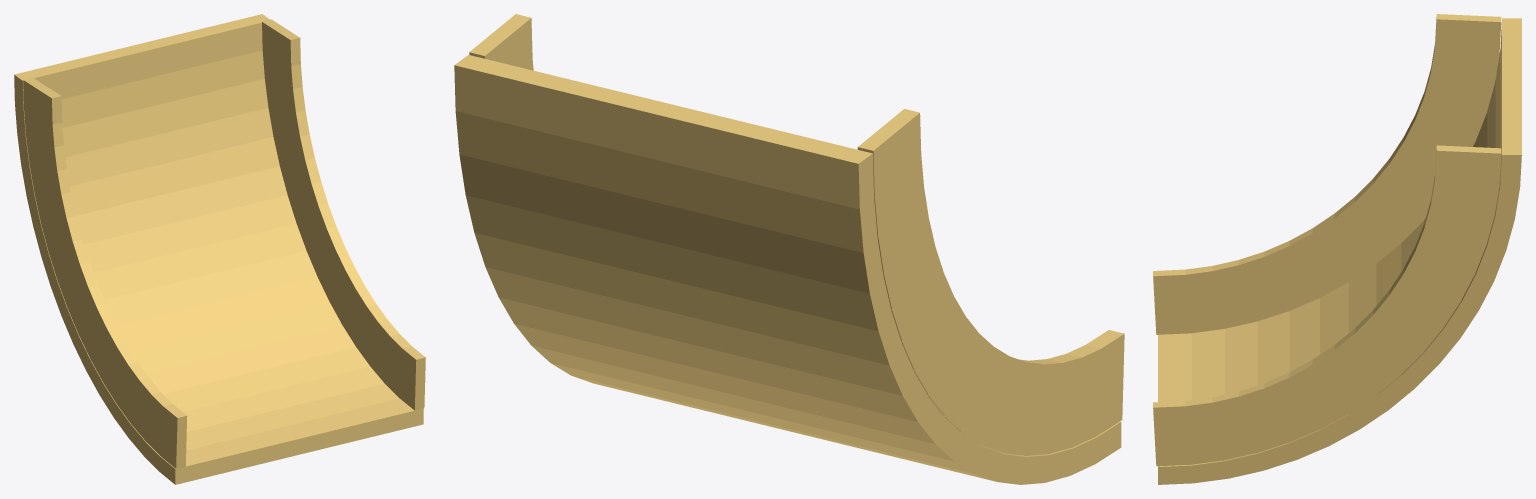
Rendered from BridgeQuotaLoot1.fbx.
The picture shows the model from 3 angles, left to right: view 1: azimuth 30°, elevation 25°; view 2: azimuth 150°, elevation 25°; view 3: azimuth 270°, elevation 25°; orthographic projection. The views are drawn at different scales.
Visible parts, largest first — view 1: BridgeQuotaLoot1__Walkable_Deck, BridgeQuotaLoot1__Bridge_Rail_L_01, BridgeQuotaLoot1__Bridge_Rail_R_01, BridgeQuotaLoot1__Bridge_Rail_L_16, BridgeQuotaLoot1__Bridge_Rail_R_16, BridgeQuotaLoot1__Bridge_Rail_L_11, BridgeQuotaLoot1__Bridge_Rail_R_10, BridgeQuotaLoot1__Bridge_Rail_R_12, BridgeQuotaLoot1__Bridge_Rail_R_07, BridgeQuotaLoot1__Bridge_Rail_L_14, BridgeQuotaLoot1__Bridge_Rail_L_05, BridgeQuotaLoot1__Bridge_Rail_R_15 (+21 smaller); view 2: BridgeQuotaLoot1__Walkable_Deck, BridgeQuotaLoot1__Bridge_Rail_L_16, BridgeQuotaLoot1__Bridge_Rail_L_03, BridgeQuotaLoot1__Bridge_Rail_L_10, BridgeQuotaLoot1__Bridge_Rail_L_13, BridgeQuotaLoot1__Bridge_Rail_L_01, BridgeQuotaLoot1__Bridge_Rail_L_02, BridgeQuotaLoot1__Bridge_Rail_L_06, BridgeQuotaLoot1__Bridge_Rail_L_15, BridgeQuotaLoot1__Bridge_Rail_L_11, BridgeQuotaLoot1__Bridge_Rail_L_07, BridgeQuotaLoot1__Bridge_Rail_L_14 (+6 smaller); view 3: BridgeQuotaLoot1__Walkable_Deck, BridgeQuotaLoot1__Bridge_Rail_L_16, BridgeQuotaLoot1__Bridge_Rail_R_01, BridgeQuotaLoot1__Bridge_Rail_L_01, BridgeQuotaLoot1__Bridge_Rail_L_03, BridgeQuotaLoot1__Bridge_Rail_L_02, BridgeQuotaLoot1__Bridge_Rail_R_03, BridgeQuotaLoot1__Bridge_Rail_R_16, BridgeQuotaLoot1__Bridge_Rail_L_08, BridgeQuotaLoot1__Bridge_Rail_R_02, BridgeQuotaLoot1__Bridge_Rail_R_10, BridgeQuotaLoot1__Bridge_Rail_R_08 (+21 smaller).
Part boxes in pixels (x1=…): BridgeQuotaLoot1__Walkable_Deck: x1=14, y1=14, x2=423, y2=484; BridgeQuotaLoot1__Bridge_Rail_L_01: x1=160, y1=404, x2=187, y2=468; BridgeQuotaLoot1__Bridge_Rail_R_01: x1=399, y1=346, x2=425, y2=410; BridgeQuotaLoot1__Bridge_Rail_L_16: x1=23, y1=77, x2=62, y2=127; BridgeQuotaLoot1__Bridge_Rail_R_16: x1=262, y1=19, x2=300, y2=69; BridgeQuotaLoot1__Bridge_Rail_L_11: x1=41, y1=214, x2=82, y2=254; BridgeQuotaLoot1__Bridge_Rail_R_10: x1=288, y1=180, x2=327, y2=224; BridgeQuotaLoot1__Bridge_Rail_R_12: x1=273, y1=133, x2=314, y2=167; BridgeQuotaLoot1__Bridge_Rail_R_07: x1=317, y1=247, x2=354, y2=302; BridgeQuotaLoot1__Bridge_Rail_L_14: x1=26, y1=137, x2=66, y2=174; BridgeQuotaLoot1__Bridge_Rail_L_05: x1=103, y1=344, x2=137, y2=403; BridgeQuotaLoot1__Bridge_Rail_R_15: x1=262, y1=49, x2=302, y2=92; BridgeQuotaLoot1__Walkable_Deck: x1=454, y1=55, x2=1121, y2=484; BridgeQuotaLoot1__Bridge_Rail_L_16: x1=857, y1=109, x2=921, y2=197; BridgeQuotaLoot1__Bridge_Rail_L_03: x1=1047, y1=354, x2=1084, y2=453; BridgeQuotaLoot1__Bridge_Rail_L_10: x1=913, y1=293, x2=967, y2=397; BridgeQuotaLoot1__Bridge_Rail_L_13: x1=883, y1=213, x2=936, y2=312; BridgeQuotaLoot1__Bridge_Rail_L_01: x1=1086, y1=330, x2=1124, y2=435; BridgeQuotaLoot1__Bridge_Rail_L_02: x1=1066, y1=345, x2=1104, y2=447; BridgeQuotaLoot1__Bridge_Rail_L_06: x1=979, y1=356, x2=1029, y2=453; BridgeQuotaLoot1__Bridge_Rail_L_15: x1=874, y1=148, x2=924, y2=238; BridgeQuotaLoot1__Bridge_Rail_L_11: x1=901, y1=269, x2=953, y2=372; BridgeQuotaLoot1__Bridge_Rail_L_07: x1=961, y1=345, x2=1012, y2=446; BridgeQuotaLoot1__Bridge_Rail_L_14: x1=877, y1=182, x2=928, y2=277; BridgeQuotaLoot1__Walkable_Deck: x1=1158, y1=18, x2=1521, y2=484; BridgeQuotaLoot1__Bridge_Rail_L_16: x1=1435, y1=14, x2=1501, y2=55; BridgeQuotaLoot1__Bridge_Rail_R_01: x1=1153, y1=401, x2=1192, y2=466; BridgeQuotaLoot1__Bridge_Rail_L_01: x1=1153, y1=269, x2=1192, y2=334; BridgeQuotaLoot1__Bridge_Rail_L_03: x1=1208, y1=260, x2=1258, y2=328; BridgeQuotaLoot1__Bridge_Rail_L_02: x1=1180, y1=266, x2=1225, y2=333; BridgeQuotaLoot1__Bridge_Rail_R_03: x1=1208, y1=391, x2=1258, y2=460; BridgeQuotaLoot1__Bridge_Rail_R_16: x1=1435, y1=145, x2=1501, y2=186; BridgeQuotaLoot1__Bridge_Rail_L_08: x1=1331, y1=197, x2=1401, y2=264; BridgeQuotaLoot1__Bridge_Rail_R_02: x1=1180, y1=397, x2=1226, y2=464; BridgeQuotaLoot1__Bridge_Rail_R_10: x1=1372, y1=290, x2=1443, y2=352; BridgeQuotaLoot1__Bridge_Rail_R_08: x1=1331, y1=328, x2=1401, y2=394.
Size of the model in its own units: 360 by 410 by 410.
